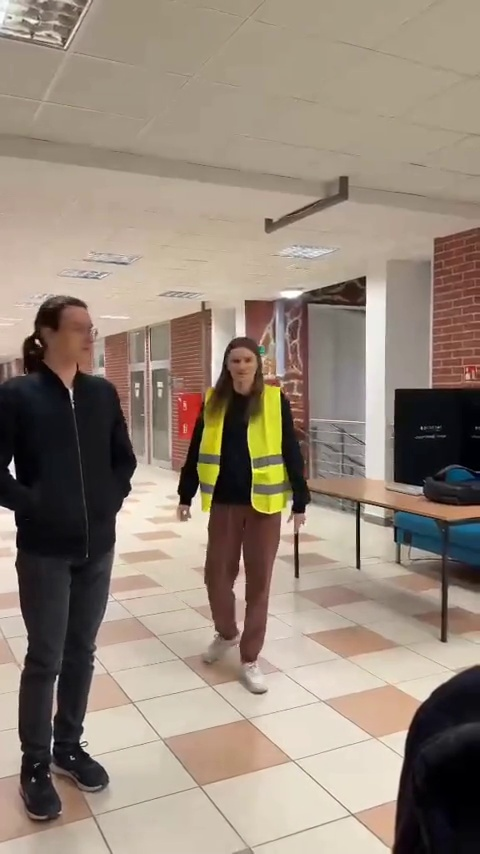no vest: (0, 290, 139, 821)
vest: (172, 332, 310, 703)
